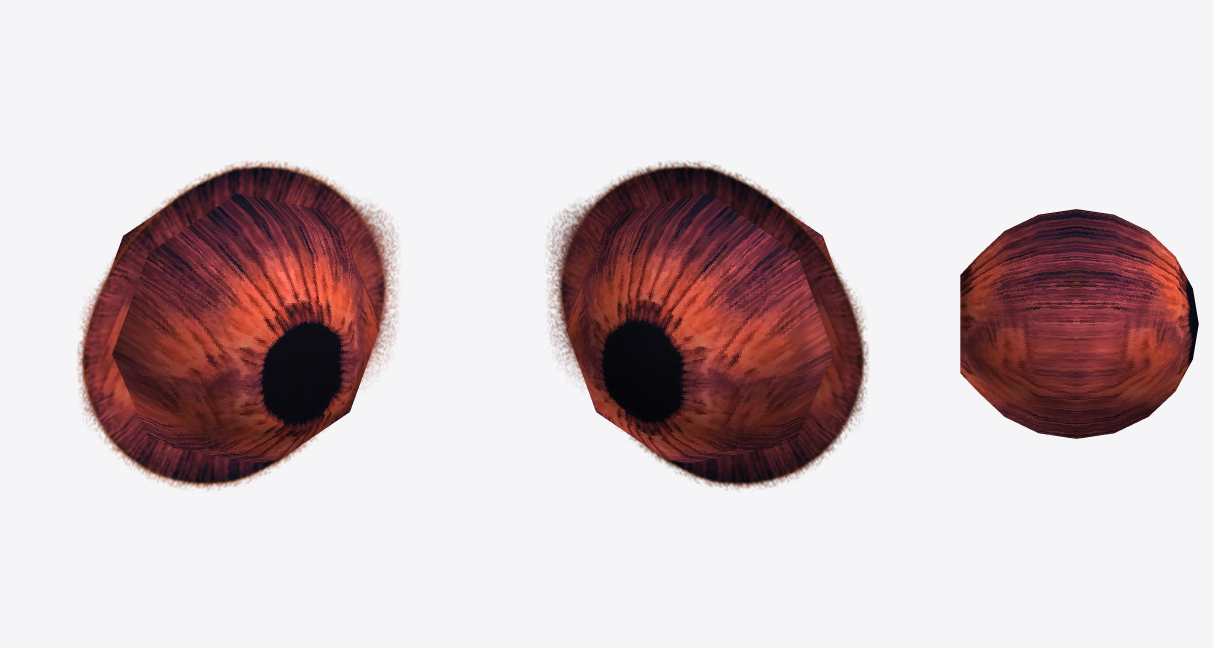
File: Caldman.glb
3 views of the same model, side by side, from view 1: azimuth 30°, elevation 25°; view 2: azimuth 150°, elevation 25°; view 3: azimuth 270°, elevation 25° (orthographic). The views are drawn at different scales.
Visible parts, largest first — view 1: Sphere, Caldman; view 2: Sphere, Caldman; view 3: Sphere.
Boxes of the visible parts, x1,y1,x2,y2 form: Sphere: [110, 194, 379, 463]; Caldman: [77, 161, 398, 489]; Sphere: [566, 194, 835, 463]; Caldman: [547, 161, 868, 489]; Sphere: [960, 209, 1198, 438].
Size of the model in its own units: 3.57 by 3.93 by 1.95.
2 materials, 2 textured.
